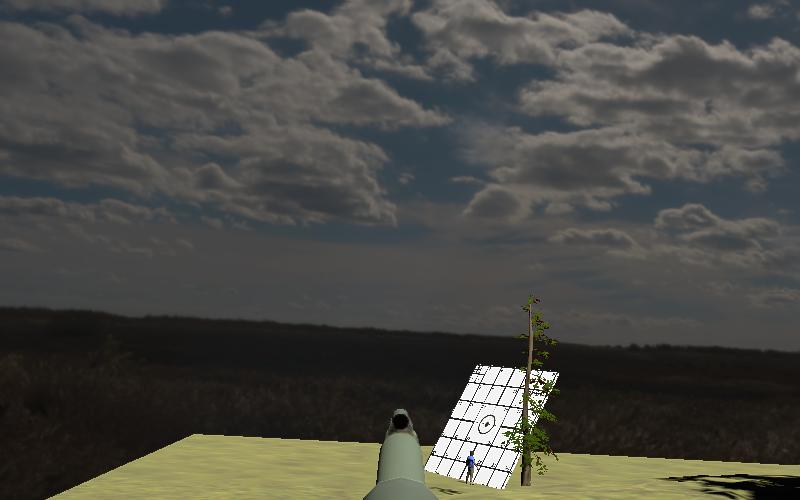Human: (460, 450, 479, 486)
